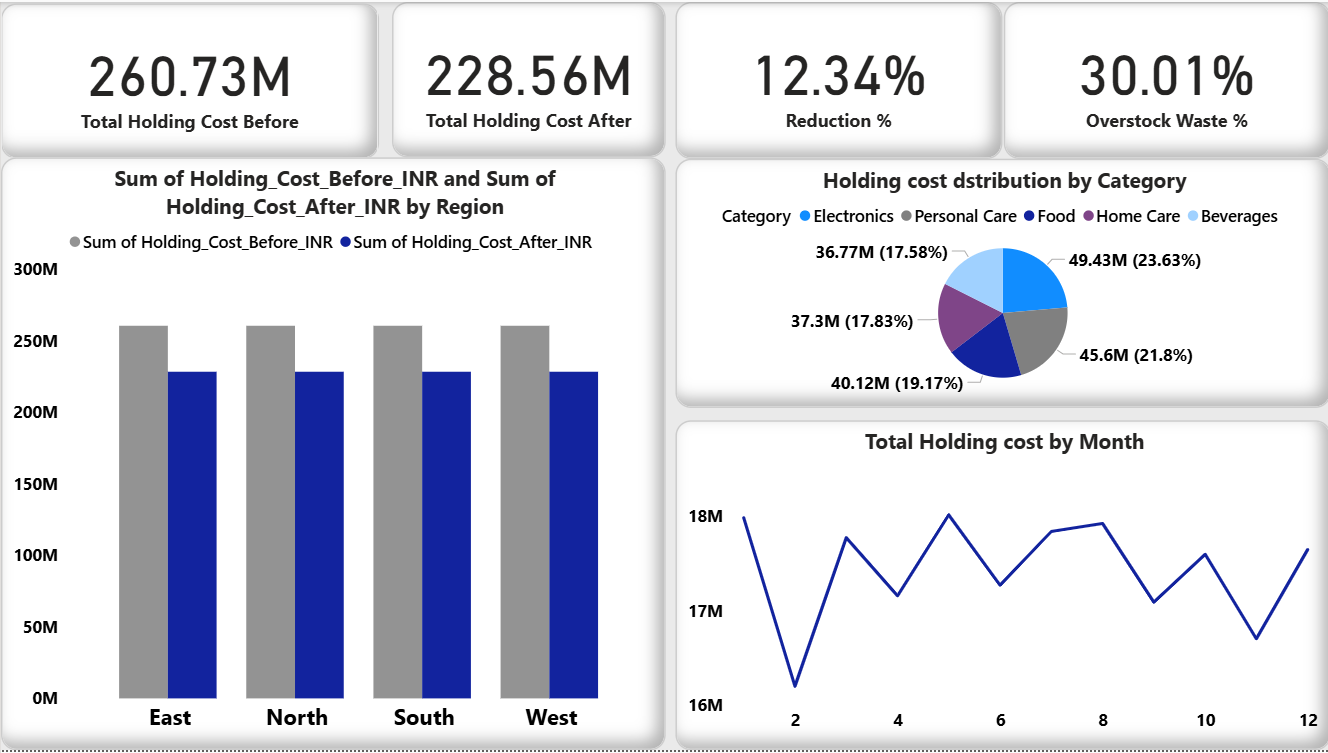

Layout of this report page (visuals, bound fields, positions):
{"tool":"powerbi","page":{"name":"Page 1","canvas":[1280,720],"ordinal":0},"visuals":[{"type":"card","fields":{"Values":["optimization_results.Total Holding Cost After"]},"box":[376.5,0,263.7,149.6],"z":0},{"type":"card","fields":{"Values":["optimization_results.Total Holding Cost Before"]},"box":[0,1.3,364,149.9],"z":1000},{"type":"card","fields":{"Values":["calendar.Overstock Waste %"]},"box":[965.5,0,314.8,150.9],"z":2000},{"type":"clusteredColumnChart","fields":{"Category":["suppliers.Region"],"Y":["Sum(optimization_results.Holding_Cost_Before_INR)","Sum(optimization_results.Holding_Cost_After_INR)"]},"box":[0,149.6,640.2,570.7],"z":3000},{"type":"lineChart","fields":{"Category":["calendar.Month"],"Y":["inventory_transactions.Total Holding cost"]},"box":[649.4,402.7,631,317.5],"z":4000},{"type":"pieChart","title":" Holding cost dstribution by Category","fields":{"Category":["products.Category"],"Y":["inventory_transactions.Total Holding cost"]},"box":[649.4,150.9,631,240.1],"z":5000},{"type":"card","fields":{"Values":["optimization_results.Reduction %"]},"box":[649.4,0,314.8,150.9],"z":6002}]}

Visuals, with their boxes in screenshot pixels (x1, y1, x2, y2), scaled from the page's 1280x720 canvas onto the 1328x753 screenshot:
card - optimization_results.Total Holding Cost After: [left=391, top=0, right=664, bottom=156]
card - optimization_results.Total Holding Cost Before: [left=0, top=1, right=378, bottom=158]
card - calendar.Overstock Waste %: [left=1002, top=0, right=1327, bottom=158]
clusteredColumnChart - suppliers.Region x Sum(optimization_results.Holding_Cost_Before_INR): [left=0, top=156, right=664, bottom=752]
lineChart - calendar.Month x inventory_transactions.Total Holding cost: [left=674, top=421, right=1327, bottom=752]
" Holding cost dstribution by Category" pieChart: [left=674, top=158, right=1327, bottom=409]
card - optimization_results.Reduction %: [left=674, top=0, right=1000, bottom=158]
